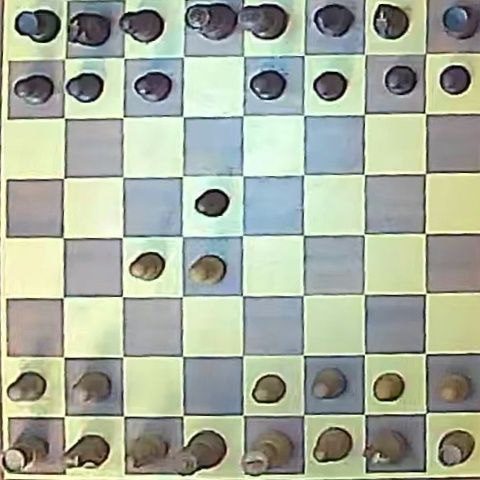black-bishop: (119, 9, 165, 44), (312, 4, 354, 39), (194, 189, 229, 217)
black-king: (238, 4, 286, 40)
black-knight: (68, 12, 111, 46), (372, 4, 408, 39)
black-pawn: (14, 74, 54, 105), (133, 71, 171, 102), (66, 72, 104, 102), (249, 70, 286, 100), (384, 65, 417, 95), (313, 71, 347, 100), (439, 65, 471, 95)
black-queen: (184, 3, 238, 41)
black-rook: (15, 9, 60, 44), (441, 4, 480, 39)
white-bishop: (125, 433, 169, 468), (313, 427, 352, 463)
white-king: (241, 429, 294, 475)
white-knight: (63, 434, 110, 469), (363, 429, 407, 465)
white-pawn: (6, 371, 47, 402), (72, 371, 110, 403), (188, 255, 225, 285), (312, 368, 346, 399), (129, 252, 165, 281), (252, 374, 286, 404), (438, 373, 470, 403), (373, 373, 405, 402)
white-queen: (171, 430, 227, 477)
white-rook: (3, 437, 46, 472), (437, 431, 474, 466)
